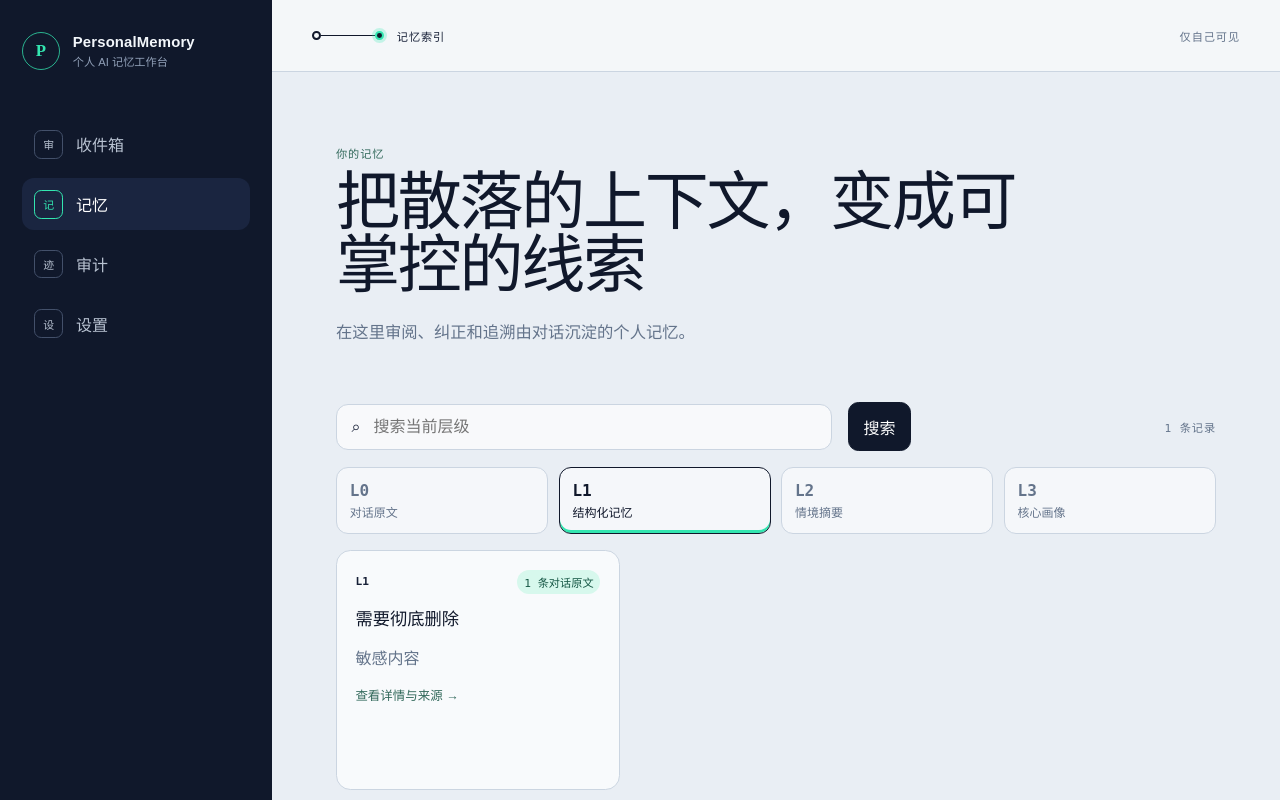
Scenario: PersonalMemory Web › shows the cascade matrix and requires both acknowledgements
Click the text "需要彻底删除" at (407, 620), box [355,610,459,629]
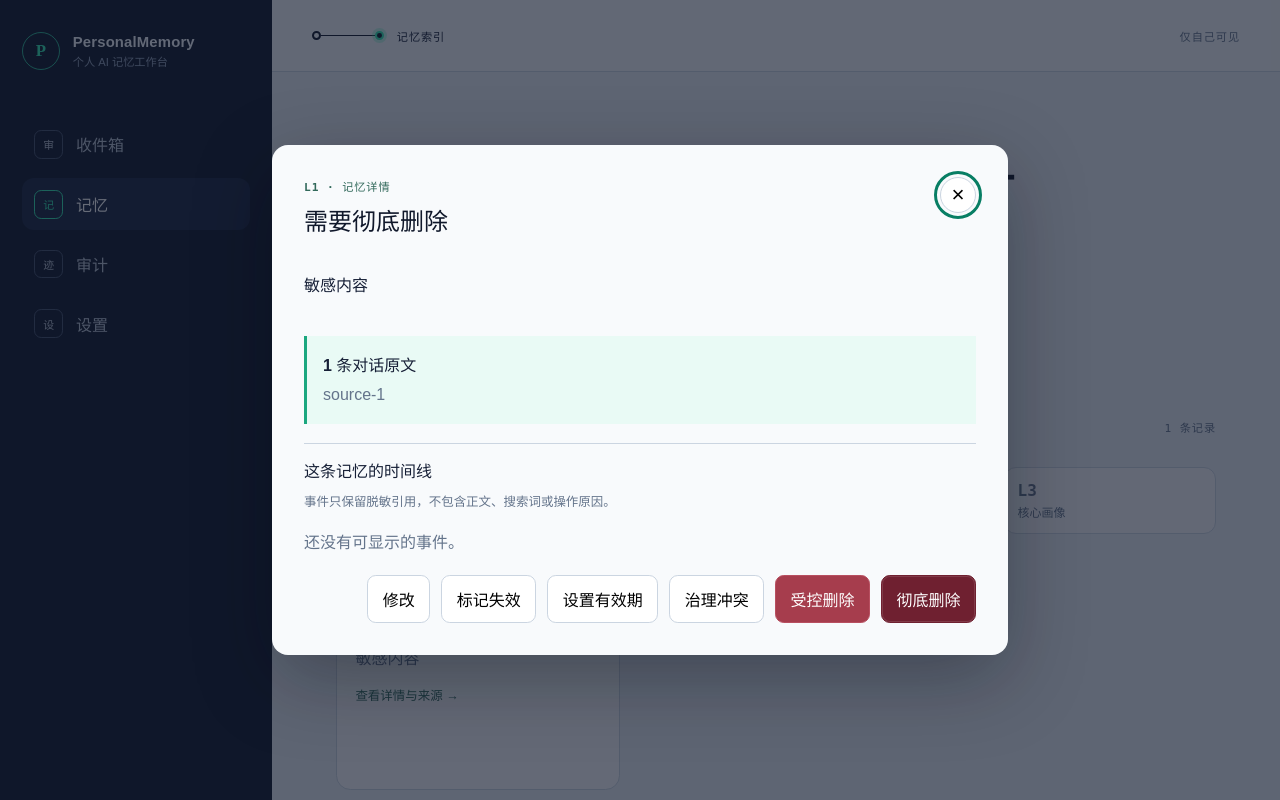
Click the button "彻底删除" at (929, 599), box [881,575,976,623]
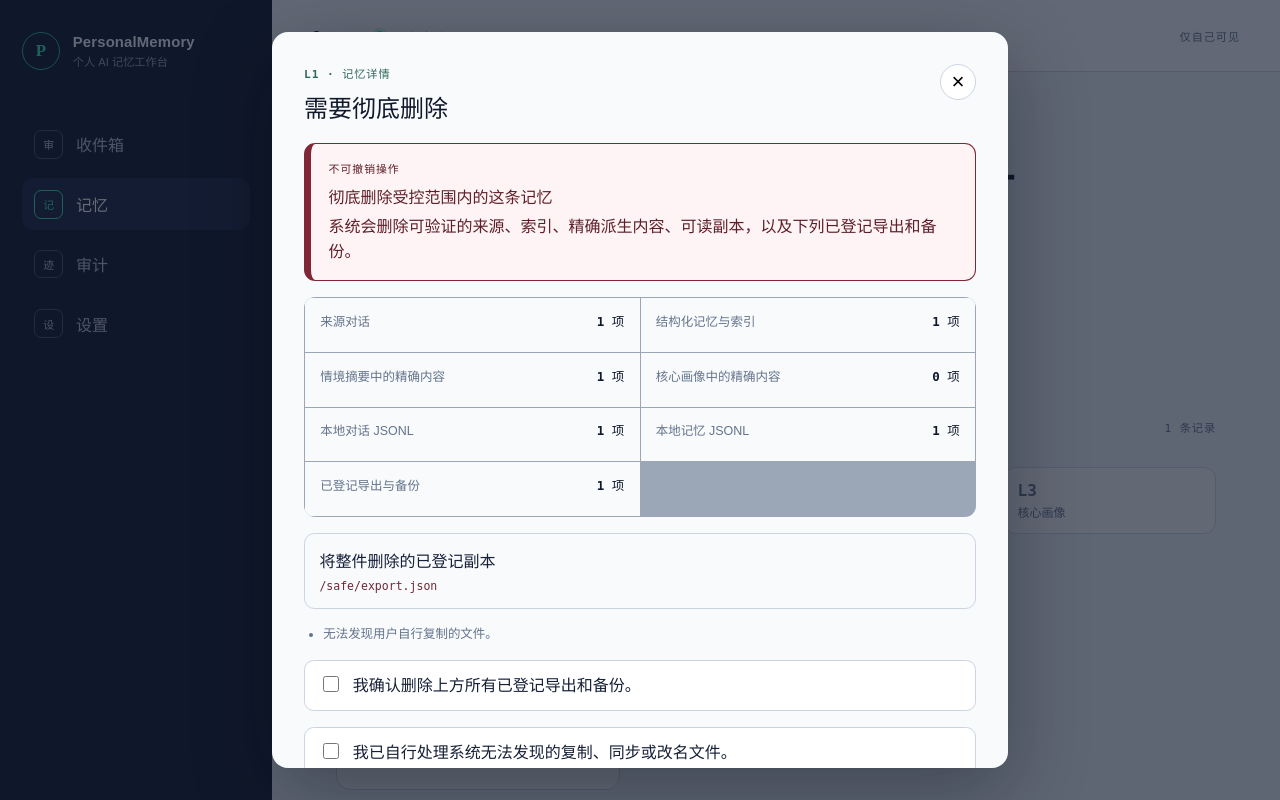
Check: the list named "删除范围核对表" is shown, box [304,297,976,517]
Check: the text "/safe/export.json" is shown, box [319,579,437,593]
Click the checkbox labelled "我确认删除上方所有已登记导出和备份。" at (331, 684), box [323,676,339,692]
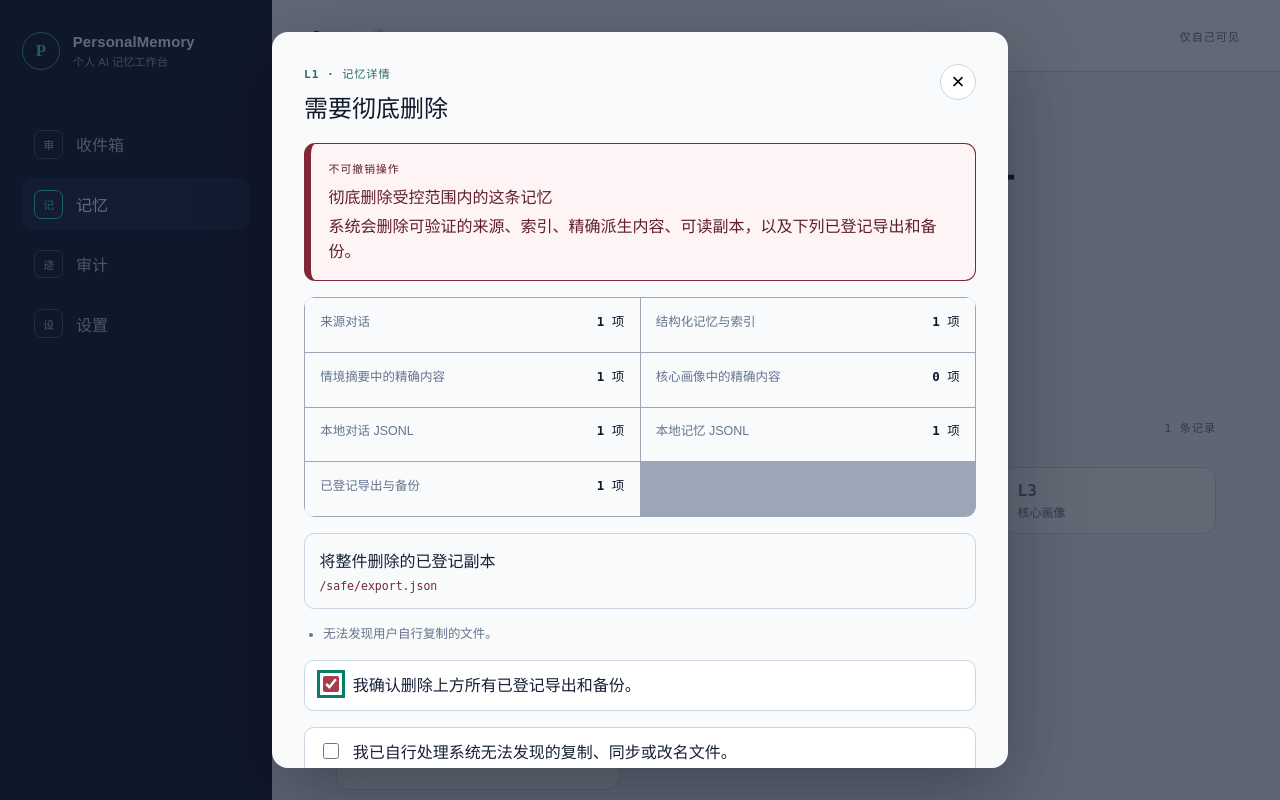
Click the checkbox labelled "我已自行处理系统无法发现的复制、同步或改名文件。" at (331, 750), box [323,742,339,758]
(page scrolled)
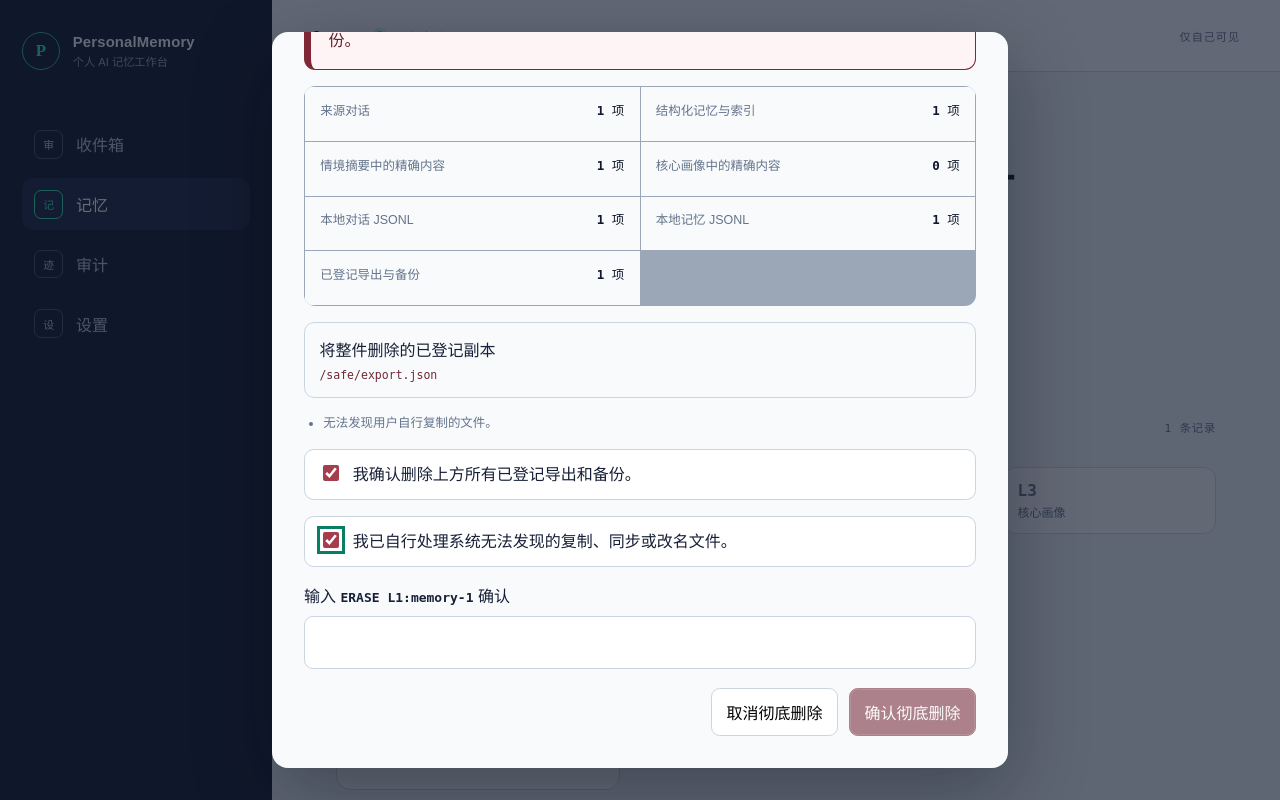
Type "ERASE L1:memory-1" into the field labelled "输入 ERASE L1:memory-1 确认" at (640, 642), box [304,616,976,669]
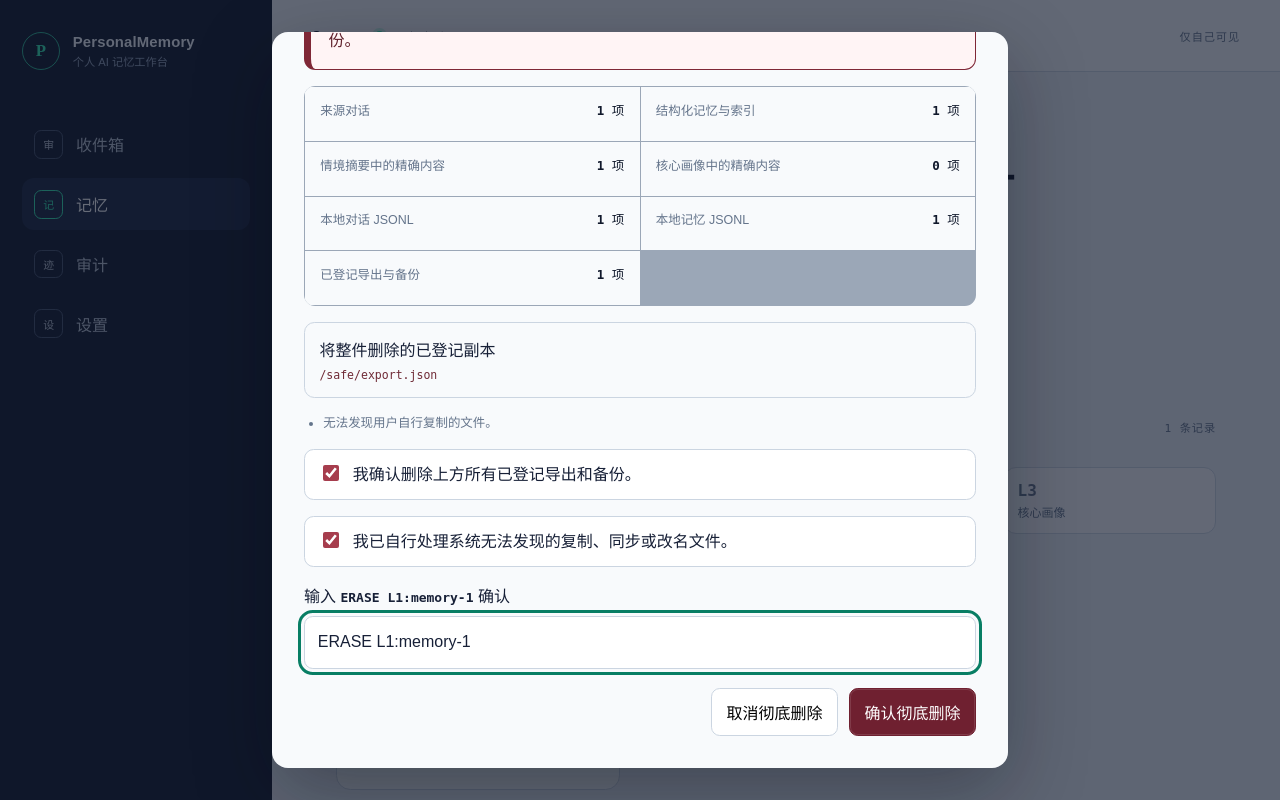
Check: the button "确认彻底删除" is enabled
Click the button "确认彻底删除" at (913, 712), box [849,688,976,736]
(page scrolled)
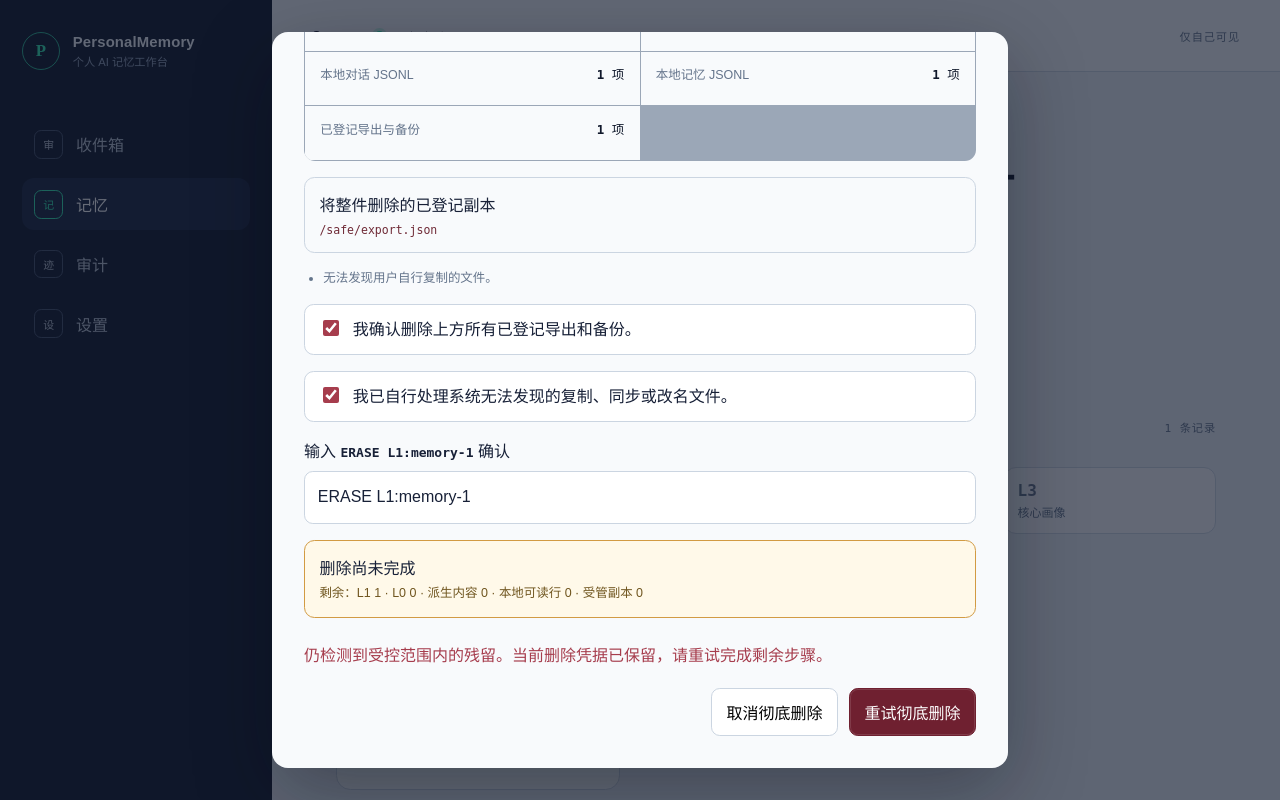
Check: the button "重试彻底删除" is enabled, box [849,688,976,736]
Check: the text "删除尚未完成" is shown, box [319,560,415,577]
